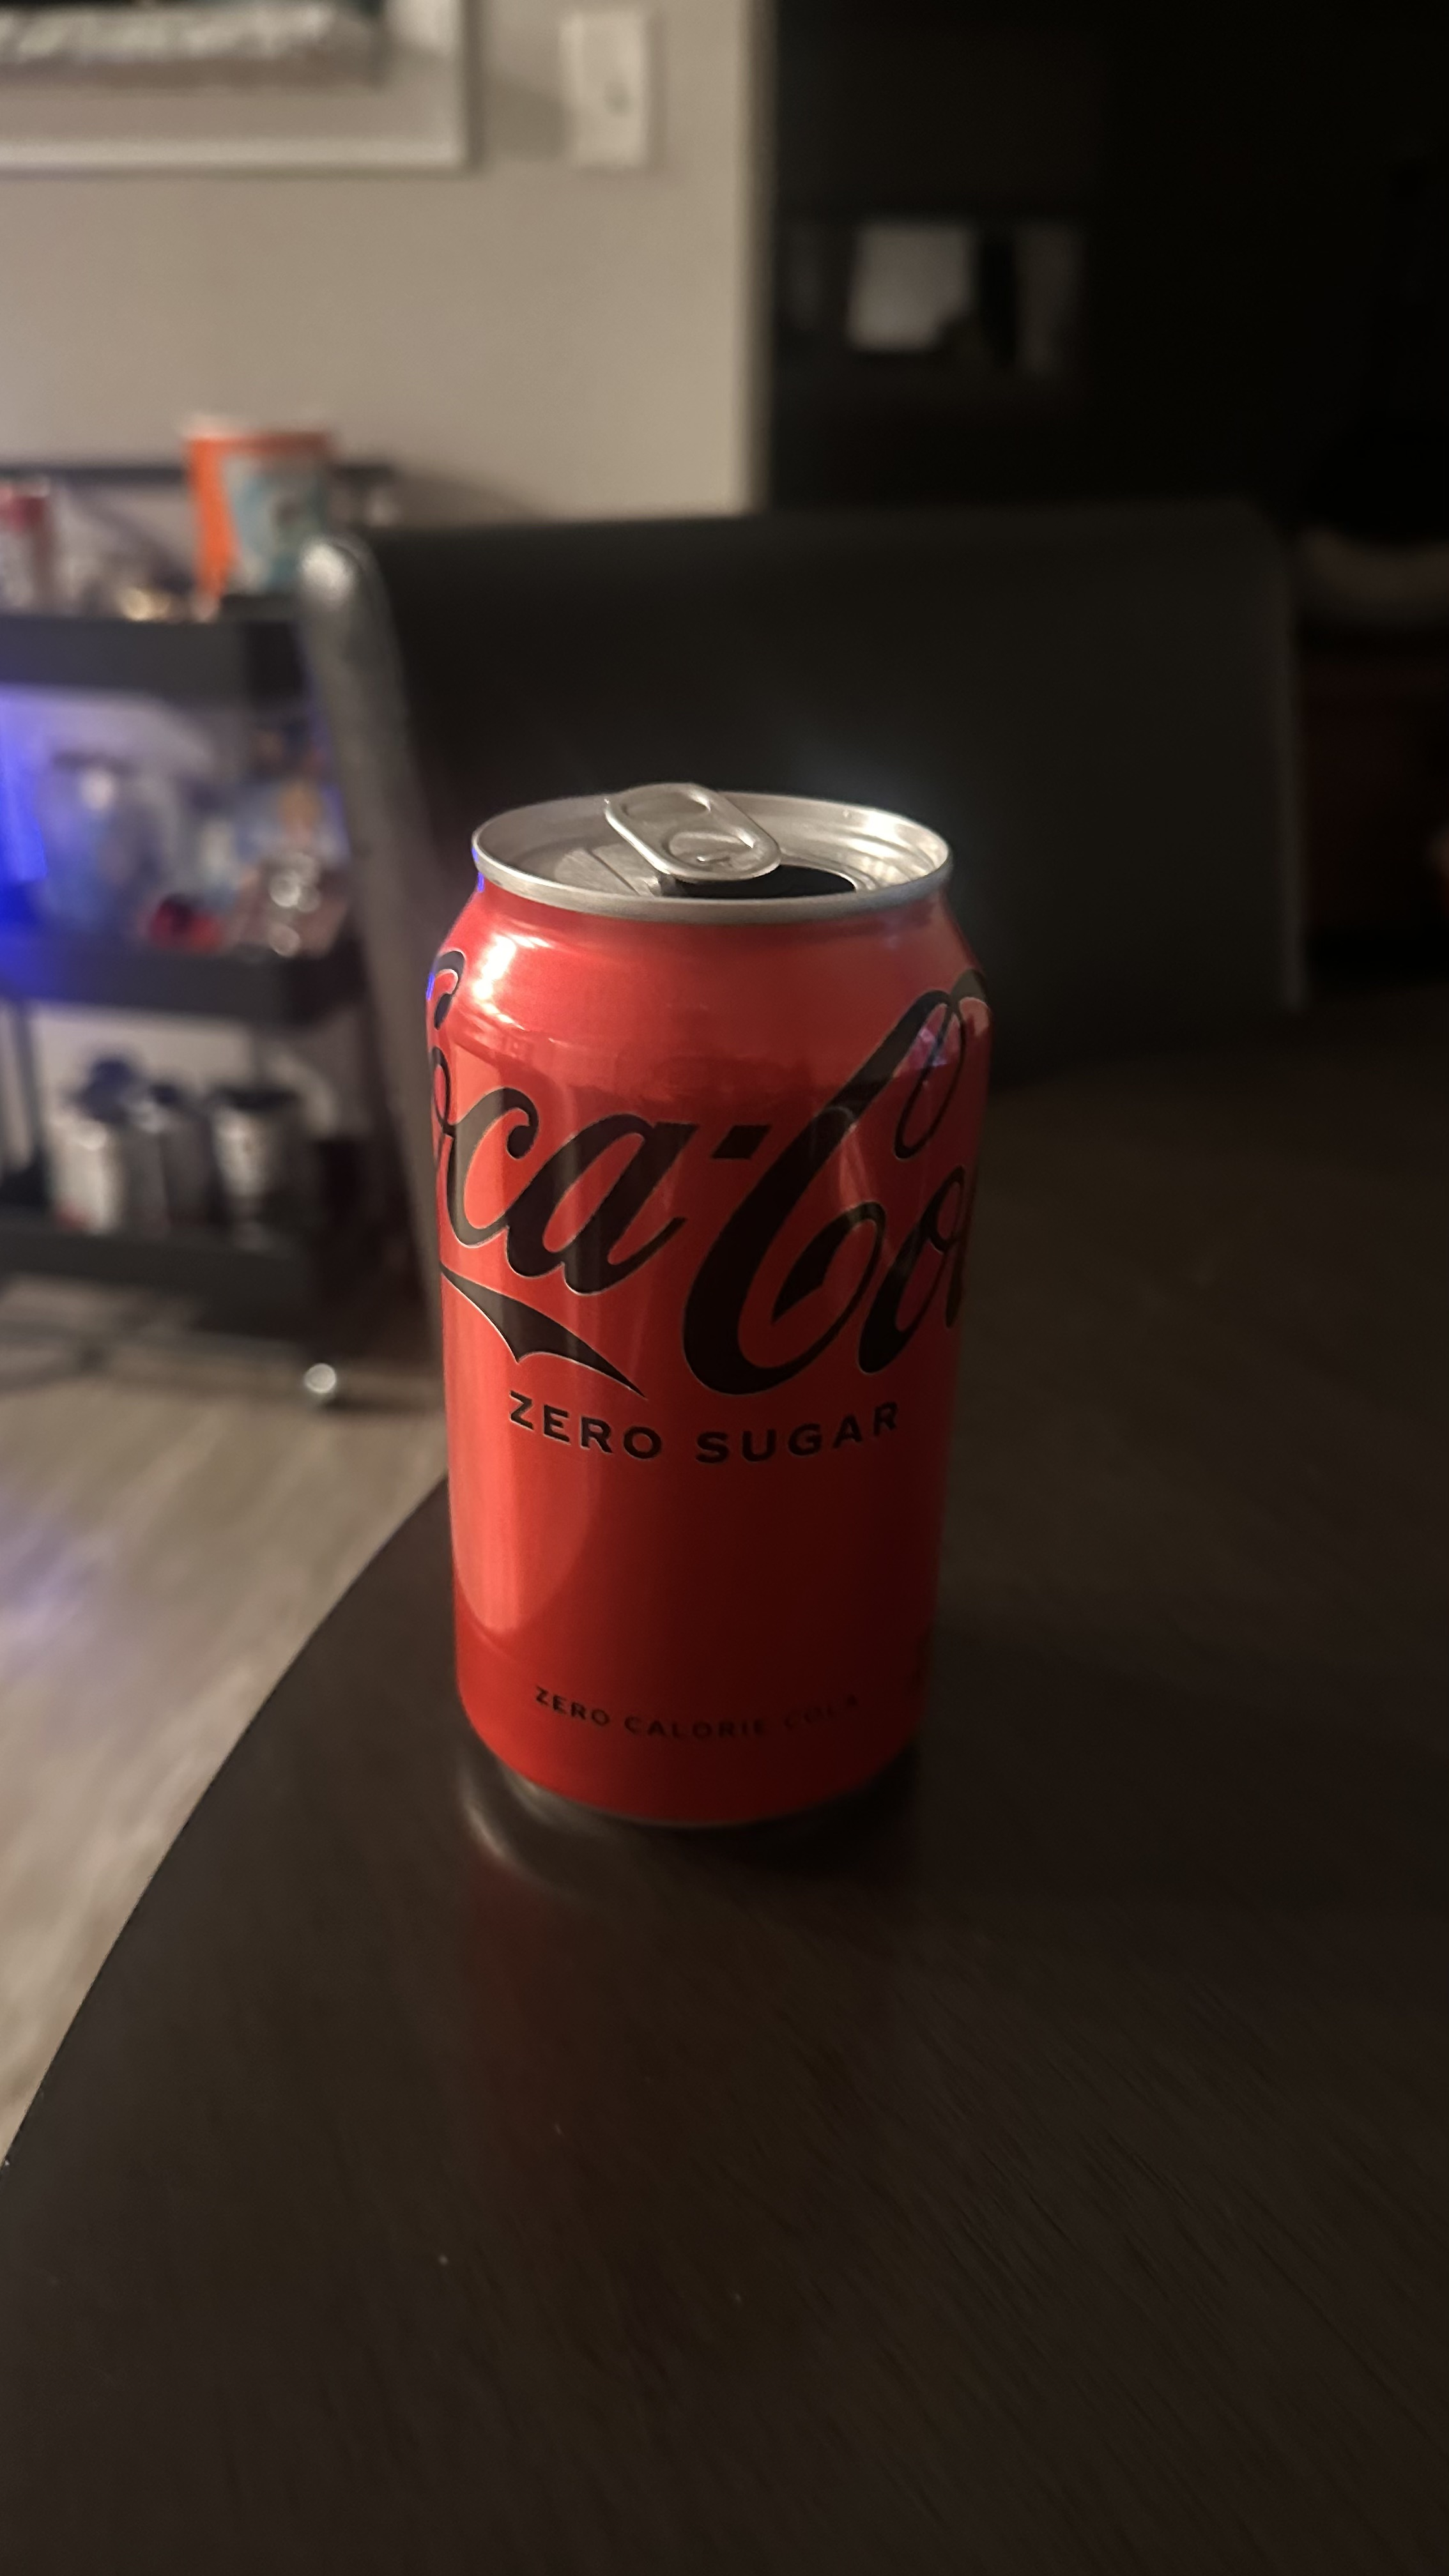Coke Zero: (387, 745, 1033, 1874)
